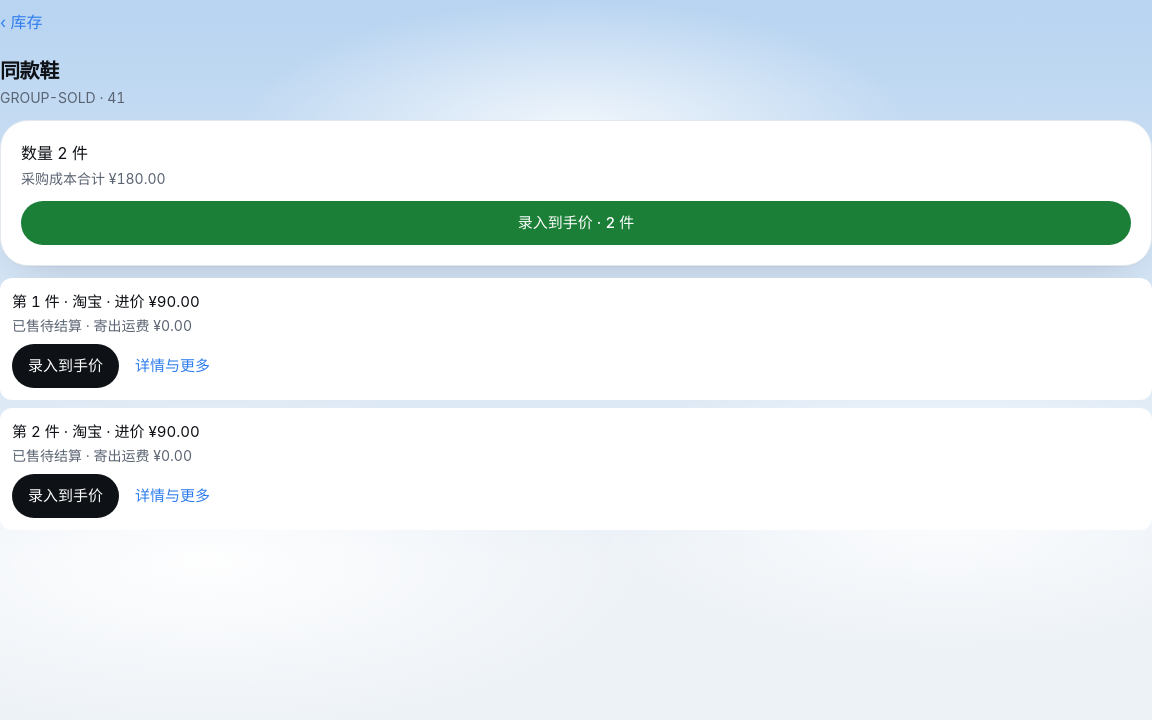
Scenario: InventoryGroupPage › settles all sold units in the same group without opening each detail
Click the button "录入到手价 · 2 件" at (576, 223), box left=21, top=201, right=1131, bottom=245
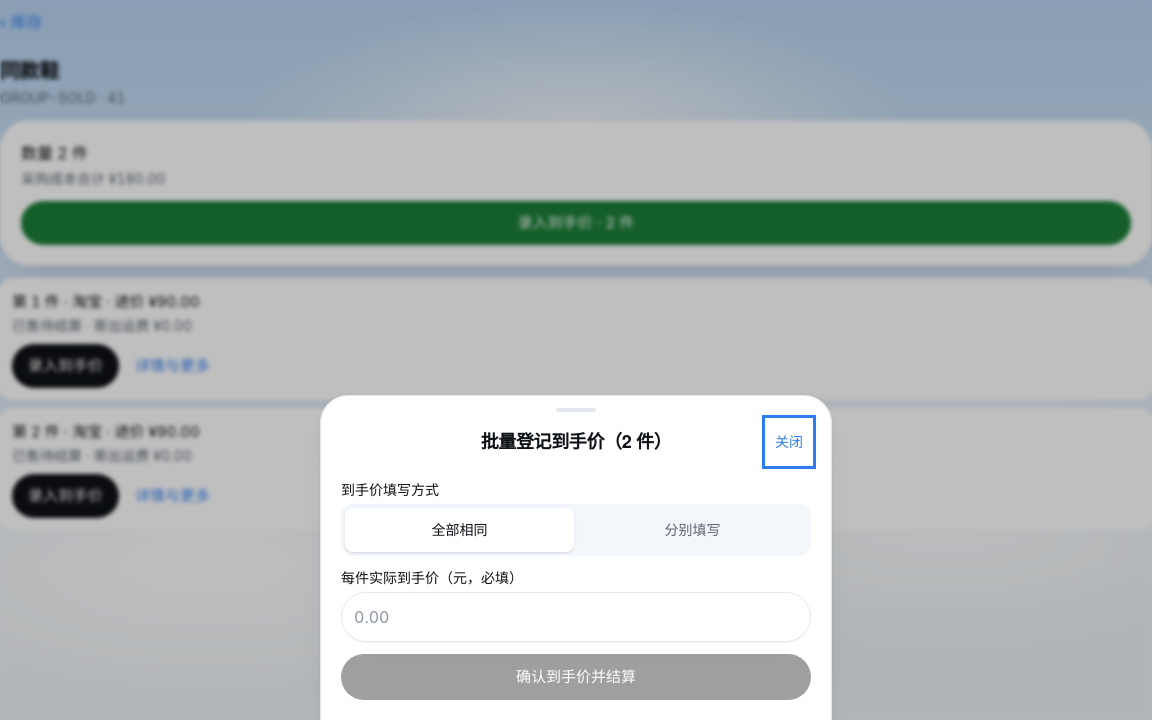
expect the number of buttons "录入到手价" is 2: met, box left=12, top=344, right=119, bottom=388; left=12, top=474, right=119, bottom=518
Type "130" into the field labelled "实际到手价" at (576, 616), box left=341, top=592, right=811, bottom=642
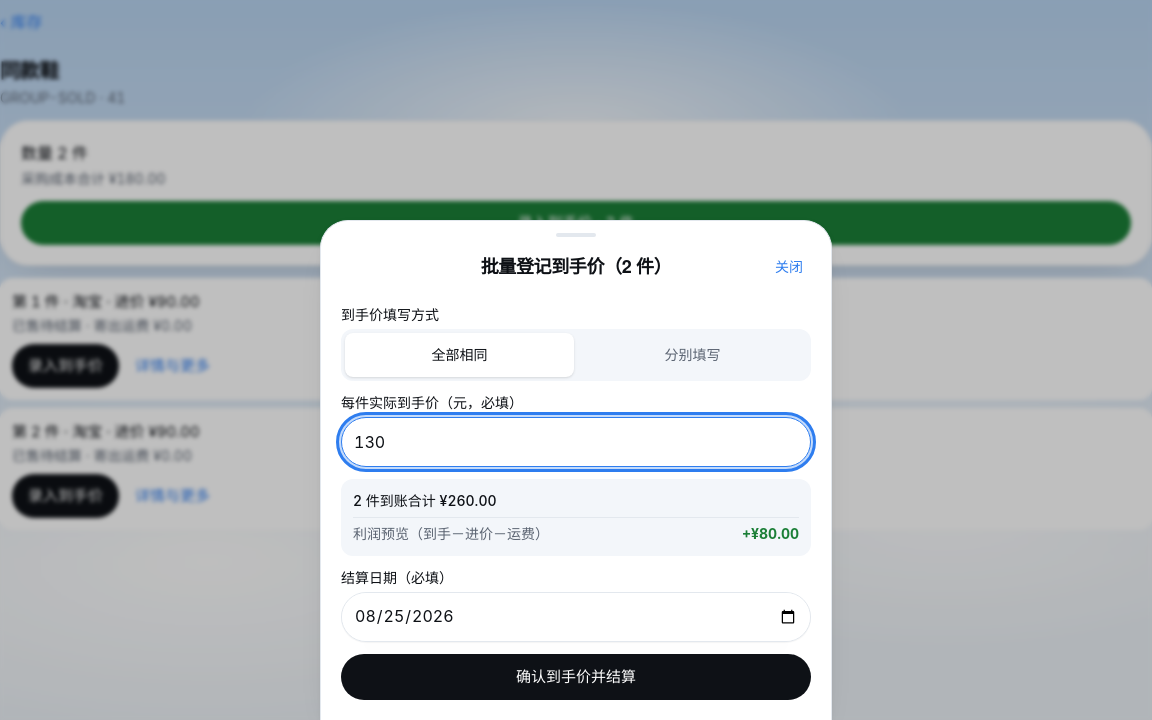
Click the button "确认到手价并结算" at (576, 677), box left=341, top=654, right=811, bottom=700
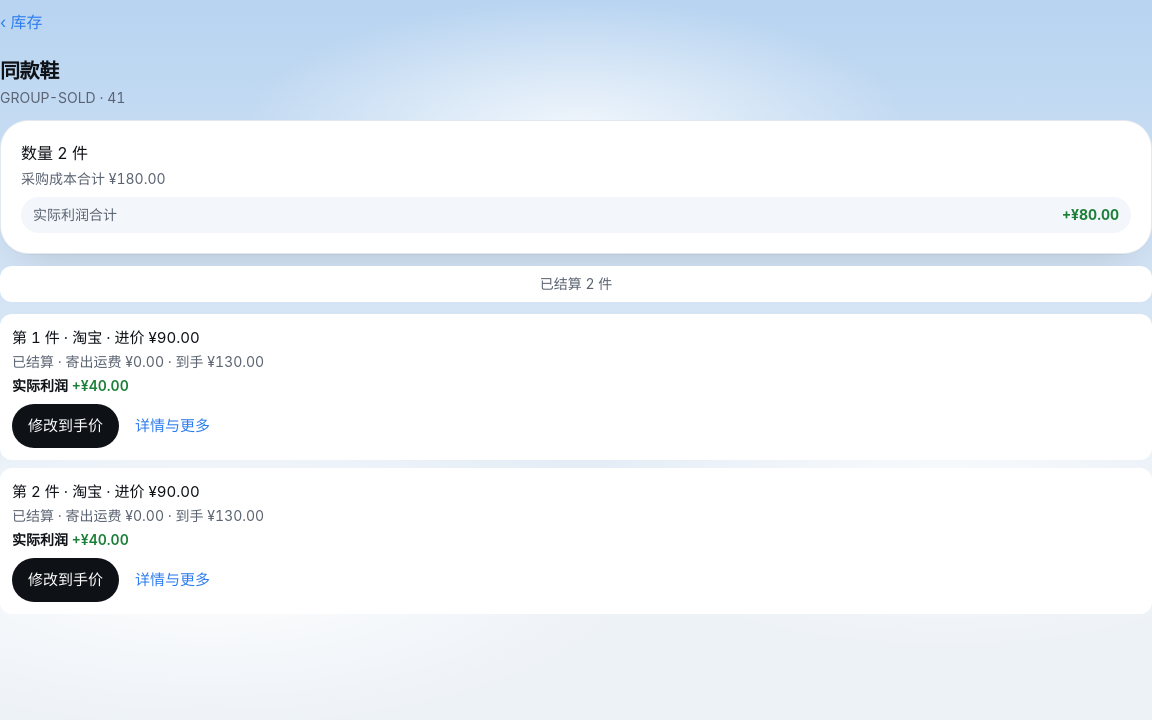
expect the text "+¥80.00" is shown: met, box left=1062, top=205, right=1119, bottom=225
expect the number of buttons "修改到手价" is 2: met, box left=12, top=404, right=119, bottom=448; left=12, top=558, right=119, bottom=602
expect the text "实际利润合计" is shown: met, box left=33, top=205, right=117, bottom=225
